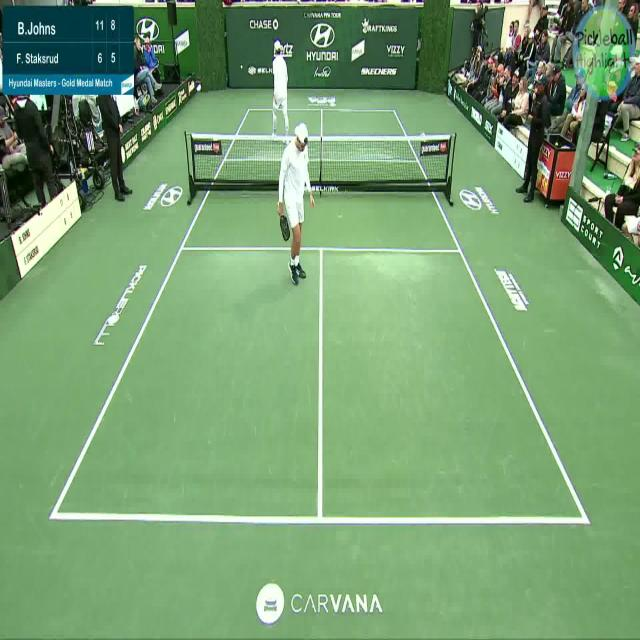ball: (239, 62, 243, 70)
